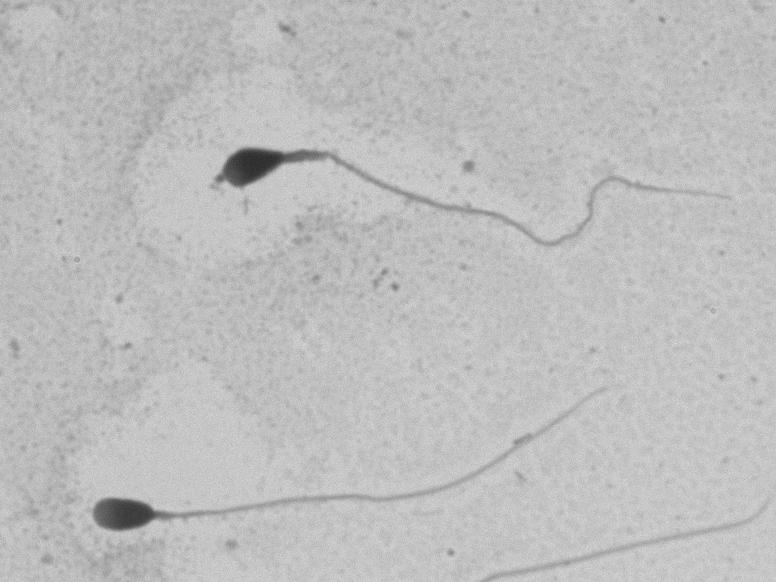Abnormal: (198, 71, 749, 288)
Normal: (70, 368, 619, 545)
